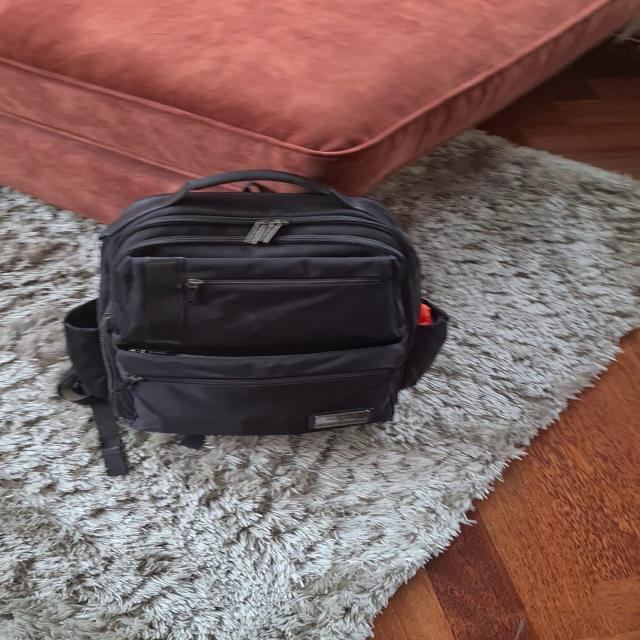backpack: (49, 157, 459, 445)
